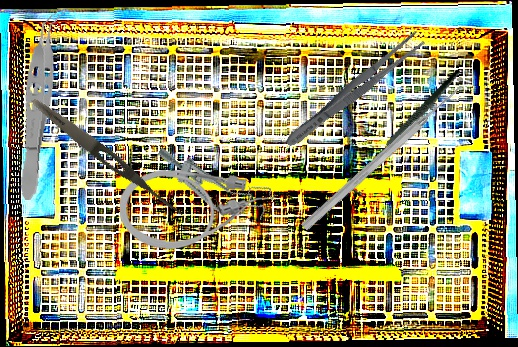Cannula: (119, 167, 270, 252)
Dressing Forceps: (28, 94, 190, 222), (280, 28, 428, 153)
Hook Surgical: (324, 69, 488, 199)
Pusher: (299, 80, 467, 234)
Speculum: (146, 138, 278, 232)
Tissue Forceps: (11, 6, 68, 202)
